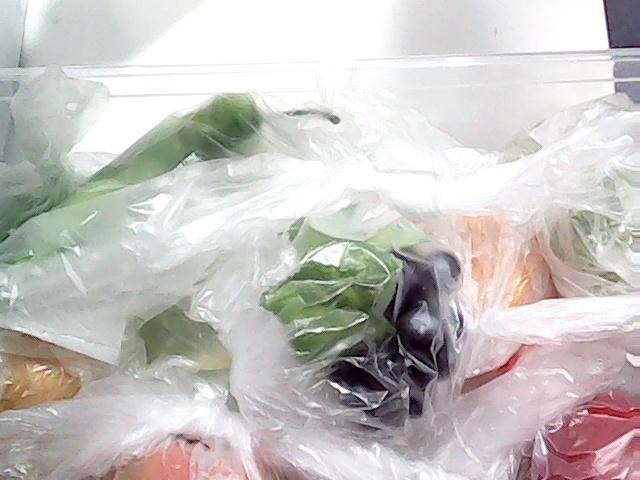apple: (496, 376, 640, 480)
cabbage: (2, 170, 96, 238)
carrot: (489, 294, 567, 387)
grape: (304, 239, 468, 429)
lemon: (439, 195, 568, 321)
napa cabbage: (120, 304, 284, 412)
peach: (100, 430, 296, 480)
pepper: (0, 92, 266, 296)
potato: (0, 329, 88, 423)
